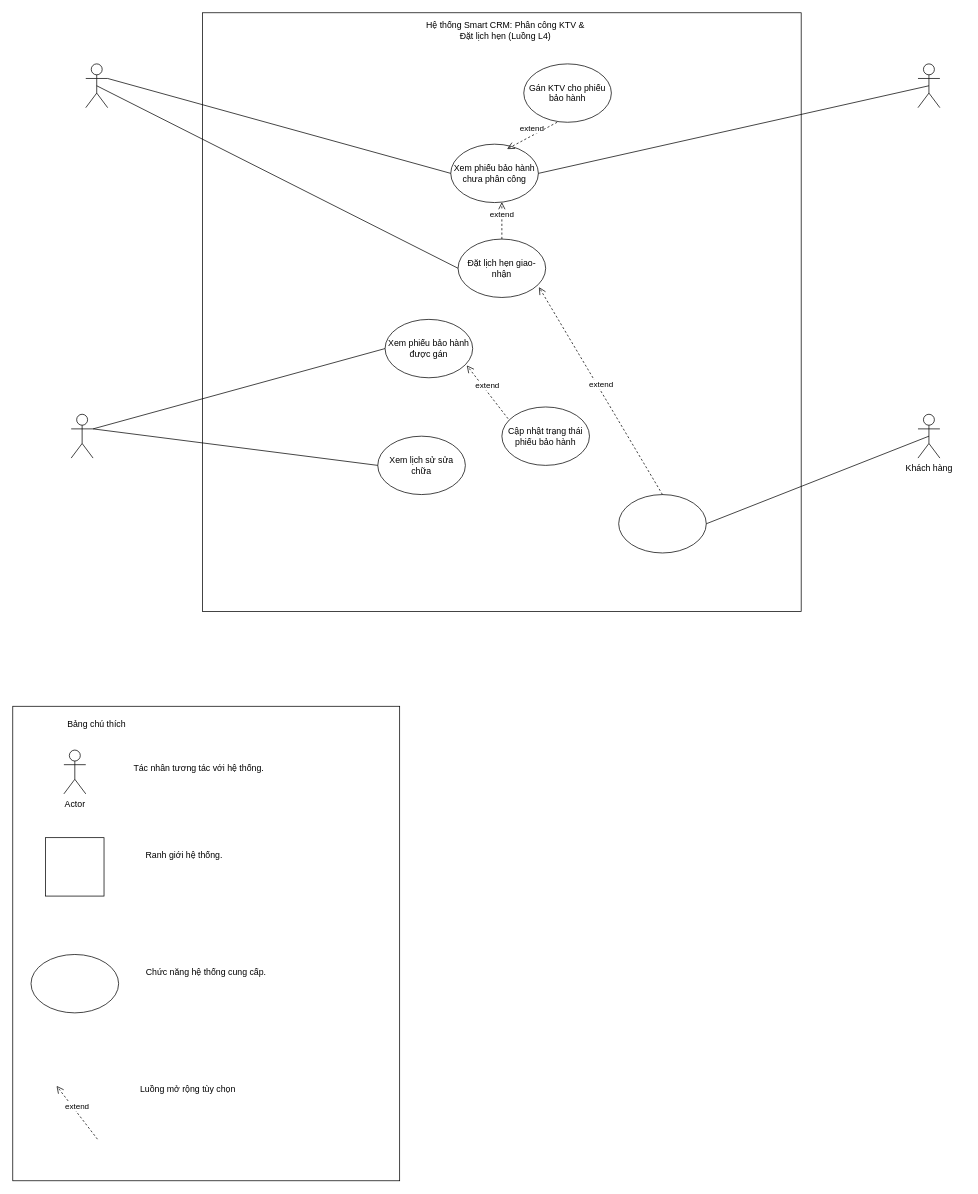
Image size: 978x1194. Some labels were removed from this diagram. The box of each missing label's shape, as (x1, y1, x2, y2) in pixels:
Hệ thống nhắc hạn: (917, 63, 940, 108)
Ký thuật viên: (70, 414, 93, 458)
Quản lý trung tâm: (85, 63, 108, 108)
Xác nhận lịch hẹn: (618, 494, 706, 553)
